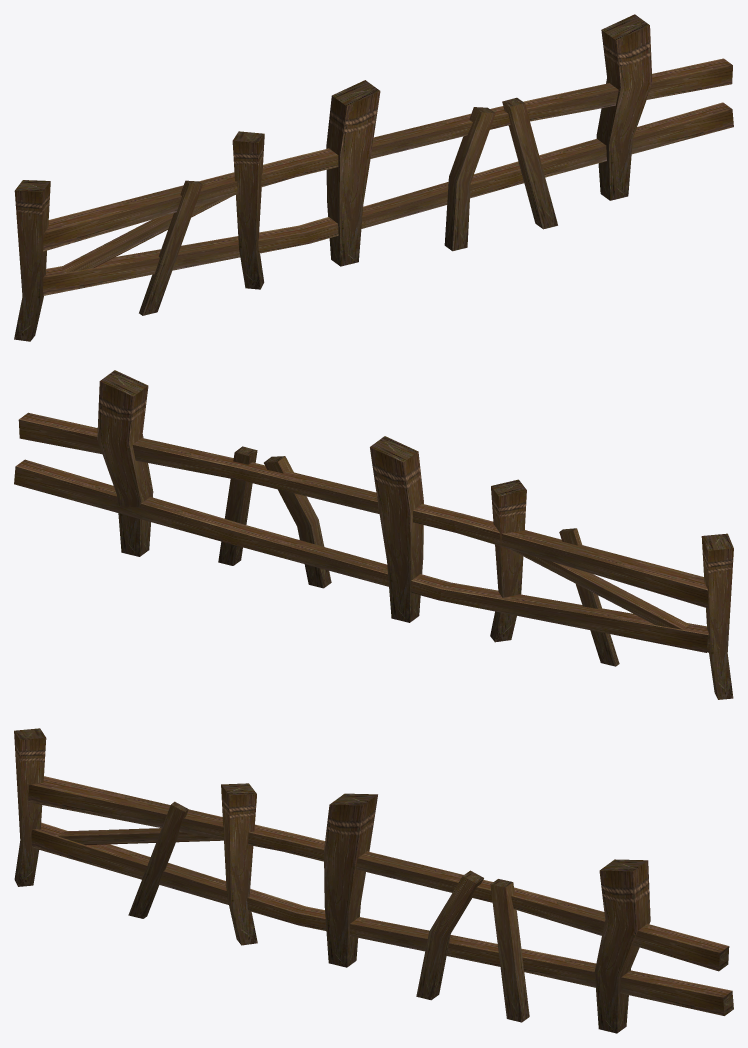
Rendered from yunbiao_01.FBX.
The picture shows the model from 3 angles, top to bottom: view 1: azimuth 30°, elevation 25°; view 2: azimuth 150°, elevation 25°; view 3: azimuth 330°, elevation 25°; orthographic projection.
Parts seen in each view (by area): view 1: s7_3d_xinzhalan001; view 2: s7_3d_xinzhalan001; view 3: s7_3d_xinzhalan001.
Boxes of the visible parts, x1,y1,x2,y2 form: s7_3d_xinzhalan001: [14, 14, 733, 341]; s7_3d_xinzhalan001: [14, 370, 733, 699]; s7_3d_xinzhalan001: [14, 728, 733, 1033].
Bounding box in the file's own units: 5.5 × 1.24 × 0.3632.
